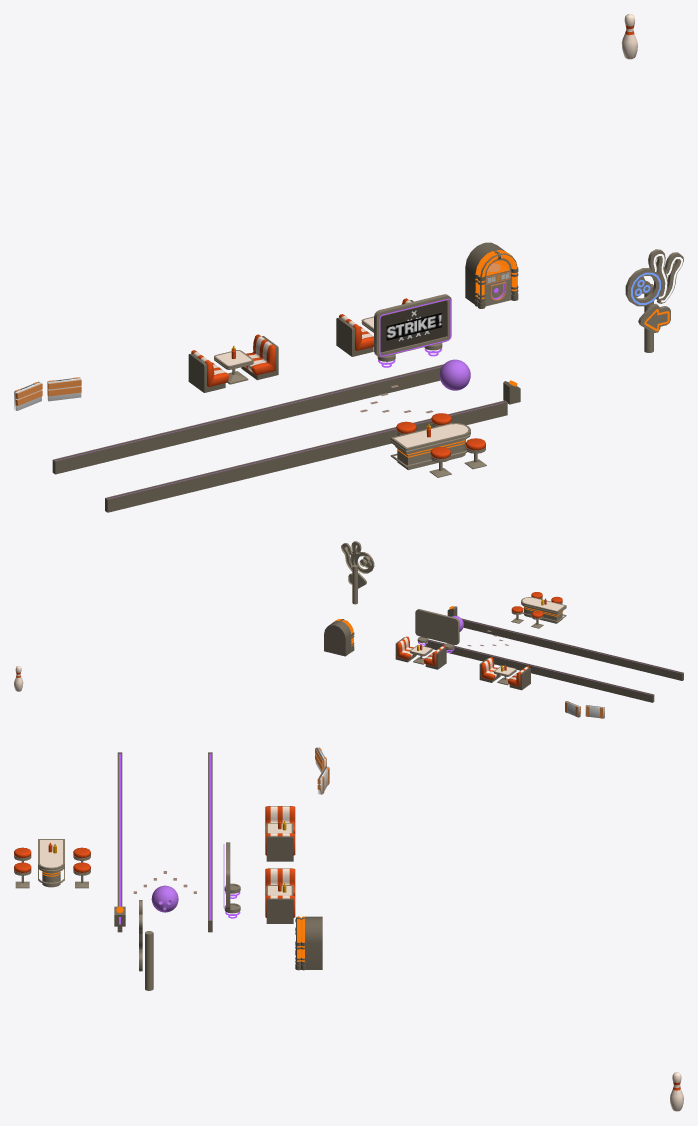
The model's file is areas.glb.
3 views of the same model, one above another, from view 1: azimuth 30°, elevation 25°; view 2: azimuth 150°, elevation 25°; view 3: azimuth 270°, elevation 25° (orthographic). The views are drawn at different scales.
Visible parts, largest first — view 1: refBowlingBumpers.001, jukebox, Plane.043, Circle.004, Cube.176, Cube.177, couch, couch.002, couch.001, refBowlingLabelStrike, refBowlingBall; view 2: refBowlingBumpers.001, Cube.177, Plane.043, jukebox, Circle.004, couch.002, couch, couch.001, couch.003; view 3: refBowlingBumpers.001, jukebox, Circle.004, couch.001, couch.003, Plane.043, refBowlingBall, couch.002, couch, Cube.177.
Boxes of the visible parts, bbox=[...] form: refBowlingBumpers.001: bbox=[52, 364, 507, 512]; jukebox: bbox=[465, 242, 518, 308]; Plane.043: bbox=[625, 249, 683, 352]; Circle.004: bbox=[390, 423, 470, 470]; Cube.176: bbox=[380, 300, 446, 352]; Cube.177: bbox=[374, 294, 451, 361]; couch: bbox=[188, 350, 229, 392]; couch.002: bbox=[336, 314, 373, 356]; couch.001: bbox=[241, 334, 278, 380]; refBowlingLabelStrike: bbox=[386, 313, 441, 340]; refBowlingBall: bbox=[439, 359, 470, 390]; refBowlingBumpers.001: bbox=[425, 618, 683, 702]; Cube.177: bbox=[415, 609, 459, 649]; Plane.043: bbox=[341, 541, 374, 604]; jukebox: bbox=[324, 619, 354, 656]; Circle.004: bbox=[521, 597, 566, 623]; couch.002: bbox=[423, 645, 446, 669]; couch: bbox=[507, 666, 530, 690]; couch.001: bbox=[479, 657, 500, 682]; couch.003: bbox=[395, 636, 416, 662]; refBowlingBumpers.001: bbox=[117, 752, 212, 932]; jukebox: bbox=[295, 916, 322, 970]; Circle.004: bbox=[38, 839, 64, 887]; couch.001: bbox=[265, 833, 295, 861]; couch.003: bbox=[265, 895, 295, 923]; Plane.043: bbox=[139, 900, 153, 990]; refBowlingBall: bbox=[151, 885, 178, 912]; couch.002: bbox=[265, 868, 295, 895]; couch: bbox=[265, 806, 295, 833]; Cube.177: bbox=[224, 842, 240, 913].
Bounding box in the file's own units: 61.46 × 7.97 × 48.4.
15 materials, 1 textured.
